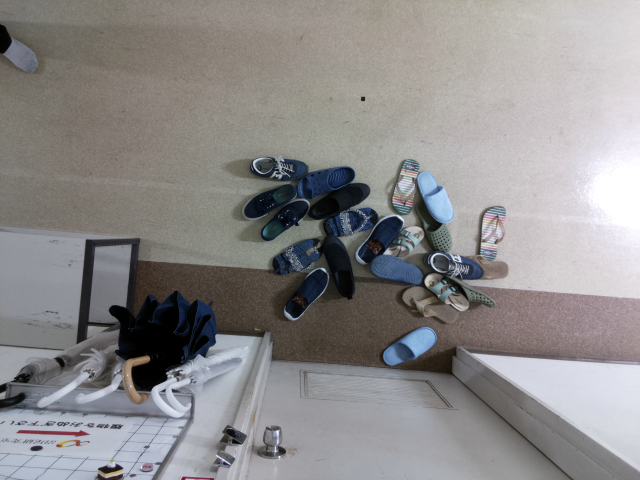Copy of Copy of Copy of Copy of Copy of Copy of Copy of Copy of Copy of Copy of: (392, 280, 462, 331), (374, 319, 444, 369), (440, 271, 504, 319), (416, 269, 479, 317), (472, 197, 514, 267), (407, 193, 458, 250), (409, 166, 459, 224), (387, 148, 428, 218), (421, 244, 486, 287), (372, 218, 431, 265), (366, 247, 430, 285), (455, 251, 519, 287)
Copy of Copy of Copy of Copy of Copy of Copy of Copy of Copy of Copy of shoe: (351, 211, 411, 268)
Copy of Copy of Copy of Copy of Copy of Copy of Copy of Copy of shoe: (317, 199, 383, 242)
Copy of Copy of Copy of Copy of Copy of Copy of Copy of shoe: (304, 174, 373, 226)
Copy of Copy of Copy of Copy of Copy of Copy of shoe: (313, 227, 365, 306)
Copy of Copy of Copy of Copy of Copy of shoe: (273, 263, 335, 328)
Copy of Copy of Copy of Copy of Copy of umbrella: (1, 319, 117, 405)
Copy of Copy of Copy of Copy of shoe: (262, 234, 330, 283)
Copy of Copy of Copy of Copy of umbrella: (28, 330, 127, 411)
Copy of Copy of Copy of shoe: (250, 192, 318, 241)
Copy of Copy of Copy of umbrella: (66, 346, 139, 411)
Copy of Copy of shoe: (237, 178, 304, 221)
Copy of Copy of umbrella: (100, 291, 222, 408)
Copy of shoe: (244, 150, 313, 181)
Copy of umbrella: (158, 345, 256, 418)
shoe: (292, 162, 362, 193)
umbrella: (143, 333, 260, 422)
